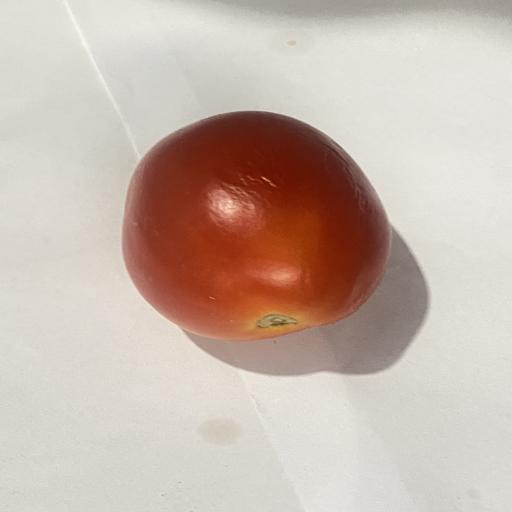overipe: (122, 111, 390, 341)
